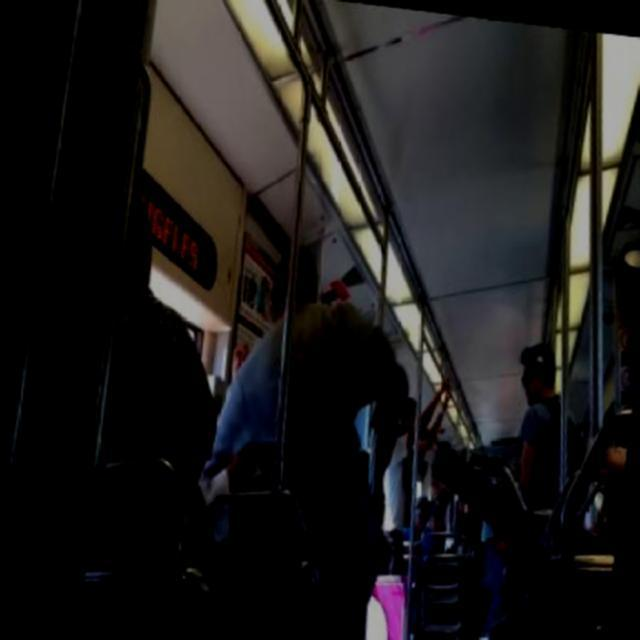fight: (175, 230, 422, 575)
non-fight: (498, 336, 594, 504)
